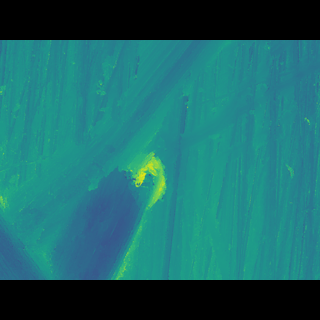Loch: (0, 69, 226, 250), (113, 148, 174, 198)
